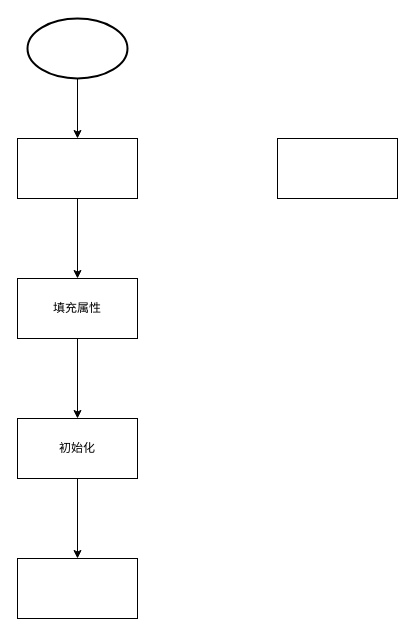
Some shapes in this 415 by 636 pixel diagram are drawn without their labels. The centre of each missing label's shape, as x and y in pixels:
"实例化" goes at pixel 77 168.
"销毁" goes at pixel 77 588.
